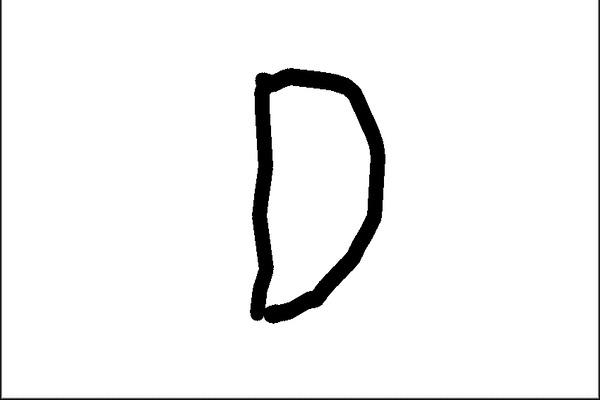D: (242, 62, 391, 327)
